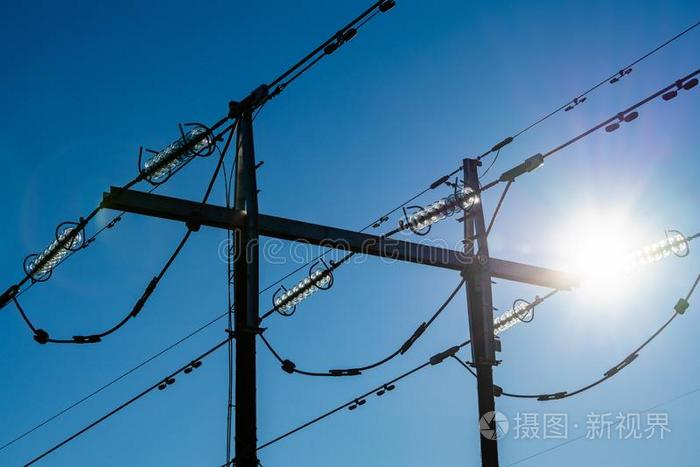insulator: (143, 128, 210, 180), (26, 226, 80, 279), (405, 187, 476, 227), (275, 268, 329, 309), (495, 300, 533, 335), (644, 236, 687, 262)
